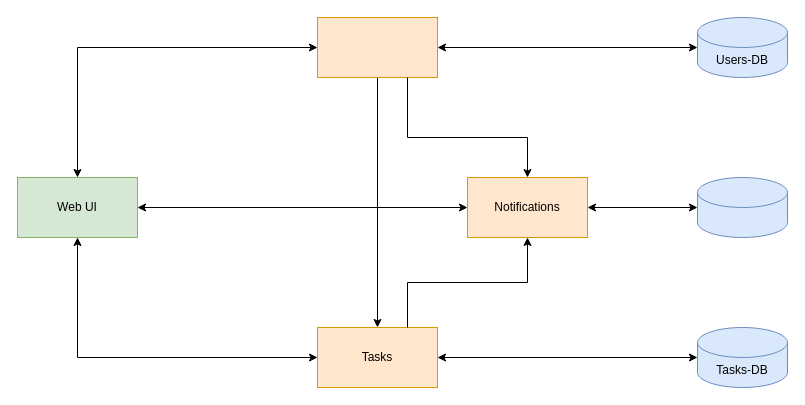
Image size: 805x405. Some labels were removed from this diagram. The shapes that lost their labels are listed below. From the top down, each one's centre as x and y in pixels, then its label:
point (377, 47): Users
point (742, 207): N-DB
